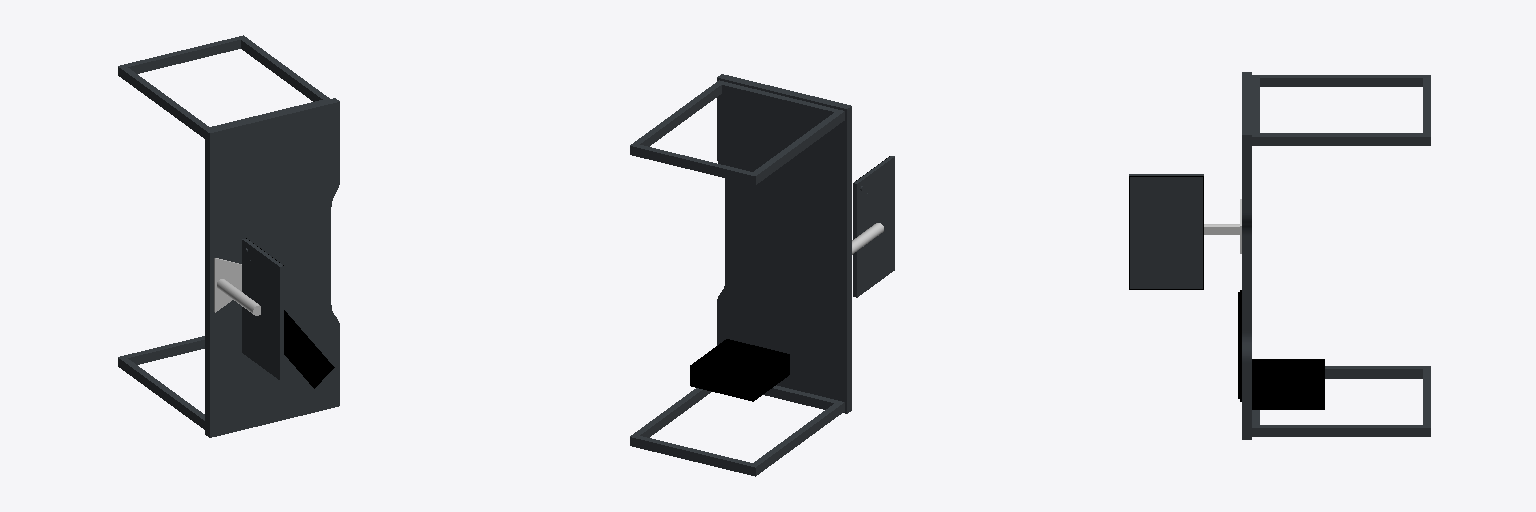
File: Desk2.obj
3 views of the same model, side by side, from view 1: azimuth 30°, elevation 25°; view 2: azimuth 150°, elevation 25°; view 3: azimuth 270°, elevation 25° (orthographic).
Parts seen in each view (by area): view 1: mesh38, mesh63, mesh25, mesh32, mesh26, mesh48, mesh15, mesh22, mesh10, mesh74, mesh29, mesh16 (+1 smaller); view 2: mesh37, mesh63, mesh44, mesh25, mesh15, mesh32, mesh42, mesh23, mesh13, mesh28, mesh10, mesh22 (+5 smaller); view 3: mesh68, mesh44, mesh25, mesh12, mesh20, mesh45, mesh27, mesh15, mesh19, mesh39, mesh34, mesh30 (+1 smaller).
Part boxes in pixels (x1,y1,x2,y2): mesh38: (210,102,339,437); mesh63: (242,240,279,379); mesh25: (118,35,329,129); mesh32: (205,130,209,437); mesh26: (128,40,240,73); mesh48: (215,258,241,312); mesh15: (118,336,204,420); mesh22: (118,67,204,138); mesh10: (118,358,204,429); mesh74: (284,310,334,388); mesh29: (241,40,322,101); mesh16: (128,340,204,364); mesh37: (717,78,846,413); mesh63: (857,157,894,297); mesh44: (691,339,788,380); mesh25: (630,80,843,175); mesh15: (630,385,843,467); mesh32: (847,106,851,413); mesh42: (690,365,752,401); mesh23: (630,146,755,185); mesh13: (630,437,755,476); mesh28: (722,85,833,118); mesh10: (756,402,844,475); mesh22: (756,111,844,184); mesh68: (1130,177,1202,288); mesh44: (1252,359,1324,388); mesh25: (1252,75,1430,136); mesh12: (1252,428,1430,436); mesh20: (1252,137,1430,145); mesh45: (1252,389,1324,409); mesh27: (1260,78,1422,86); mesh15: (1252,366,1430,427); mesh19: (1325,369,1422,378); mesh39: (1242,236,1251,330); mesh34: (1242,135,1251,212); mesh30: (1242,363,1251,439).
Size of the model in its own units: 0.6 by 1.34 by 1.2.